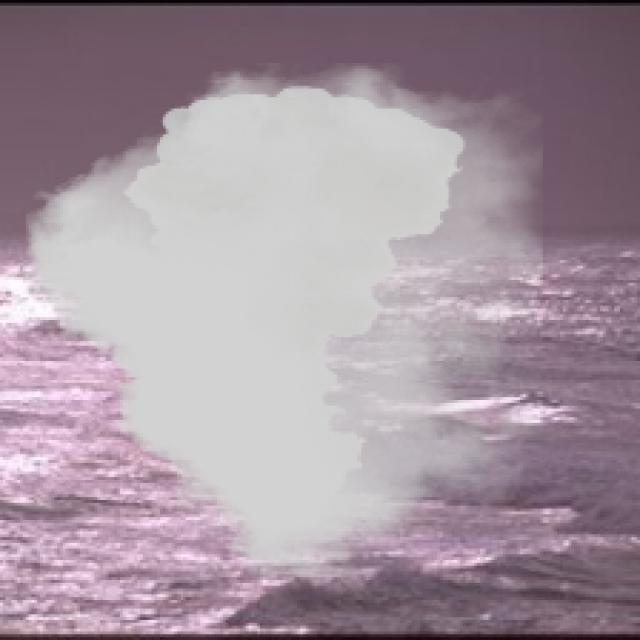smoke: (26, 63, 543, 577)
